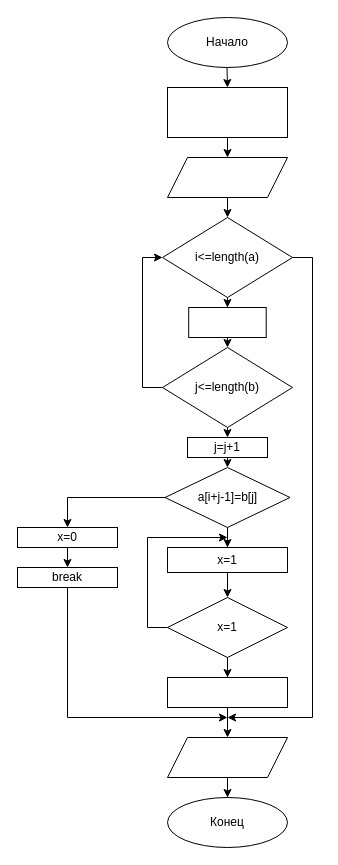
The diagram is 338 pixels wide and 865 high, and some of its shapes have lost their labels. Here are the shapes that lost their labels. From the top down, the centre of each, then its label:
(x=227, y=112): x=0 c=0 i=1
(x=227, y=177): Ввод a,b
(x=227, y=322): i=i+1 j=0
(x=227, y=692): с=c+1 x=0
(x=227, y=757): Вывод c
